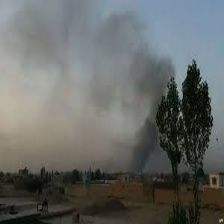smoke: (32, 16, 159, 166)
